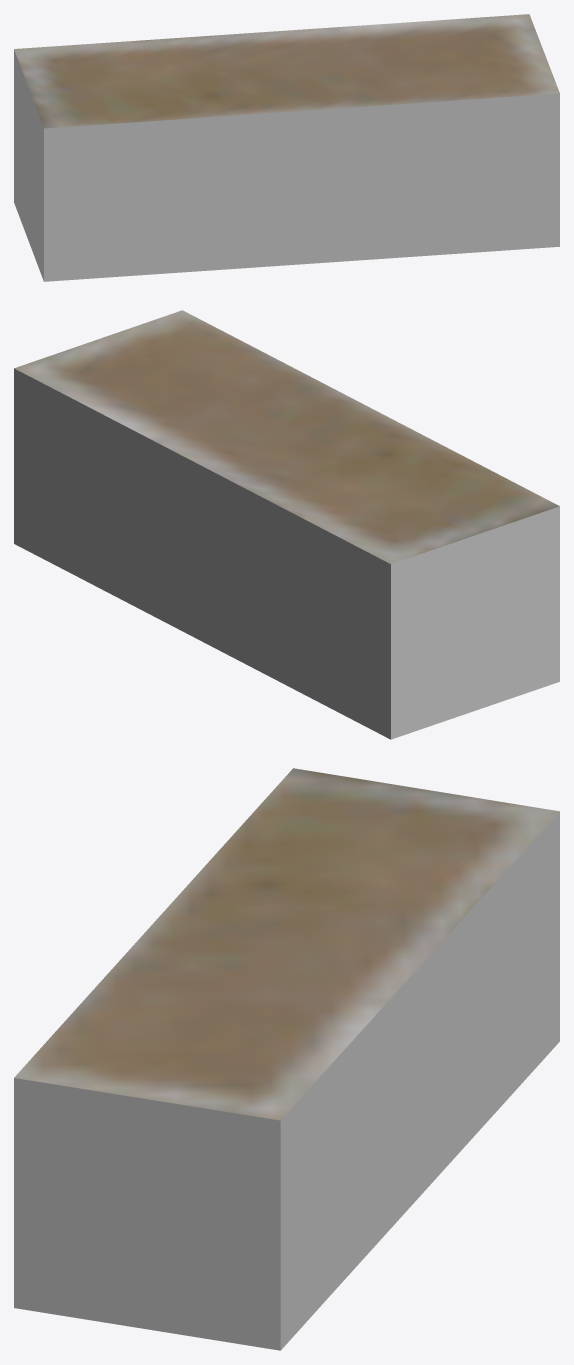
File: DEBW_0010007TxfD.gltf
3 renders of one model, top to bottom at view 1: azimuth 30°, elevation 25°; view 2: azimuth 150°, elevation 25°; view 3: azimuth 270°, elevation 25°, orthographic. The views are drawn at different scales.
Visible parts, largest first — view 1: Z_UP; view 2: Z_UP; view 3: Z_UP.
Boxes of the visible parts, <box> form: Z_UP: <box>14,14,559,281</box>; Z_UP: <box>14,310,559,739</box>; Z_UP: <box>14,768,559,1350</box>.
Size of the model in its own units: 8.66 by 2.64 by 5.67.
2 materials, 1 textured.
